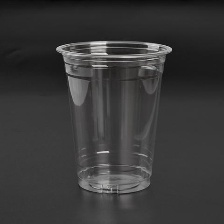glass: (55, 39, 172, 196)
